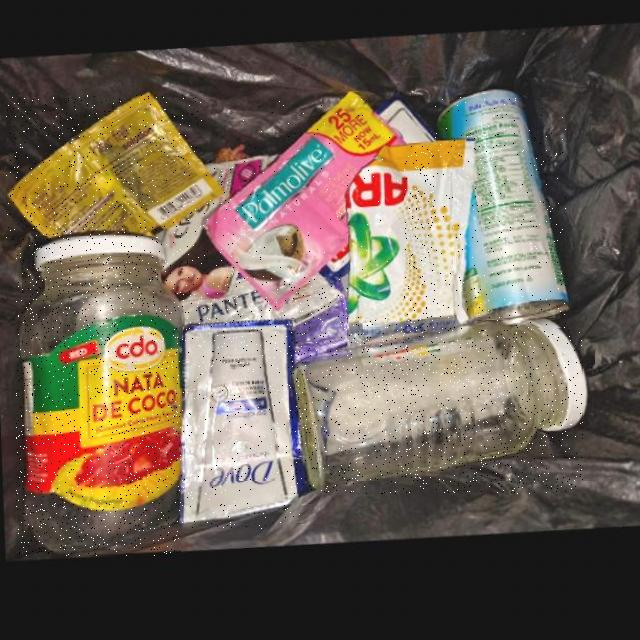glass: (16, 236, 181, 556), (289, 329, 583, 494)
metal: (435, 97, 566, 331)
wrapper: (202, 98, 404, 317), (7, 95, 220, 241), (342, 147, 473, 353), (175, 325, 301, 529), (158, 160, 266, 305), (180, 278, 347, 368)
